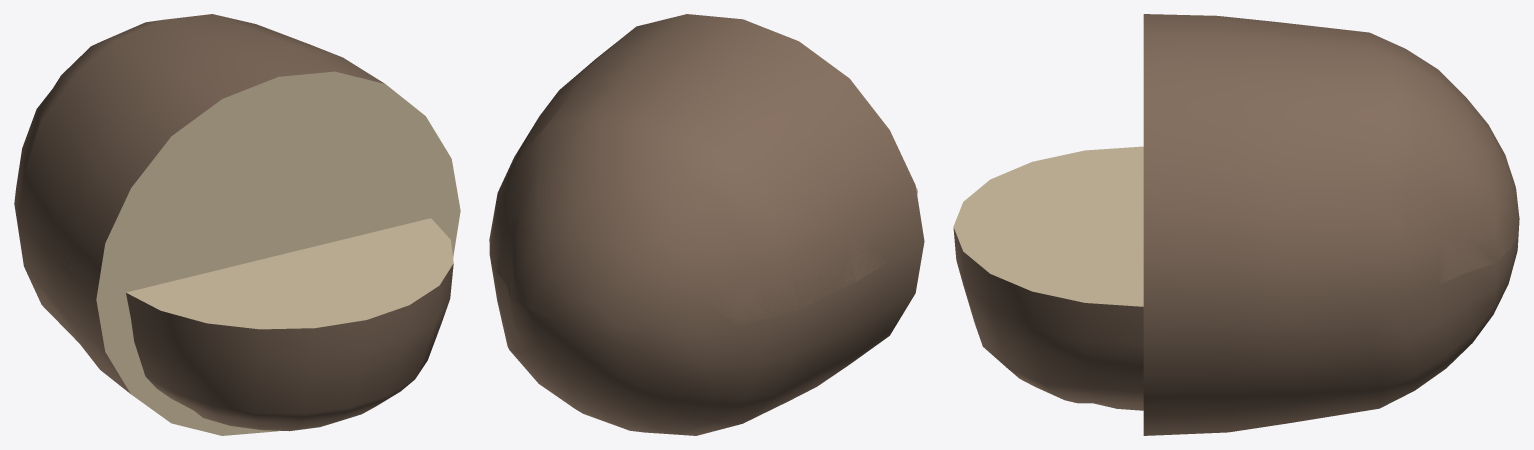
File: Potato1B.fbx
3 views of the same model, side by side, from view 1: azimuth 30°, elevation 25°; view 2: azimuth 150°, elevation 25°; view 3: azimuth 270°, elevation 25° (orthographic). The views are drawn at different scales.
Parts seen in each view (by area): view 1: PotatoPeice1B, PotatoPeice2C, PotatoPeice2D; view 2: PotatoPeice1B, PotatoPeice2D; view 3: PotatoPeice1B, PotatoPeice2C, PotatoPeice2D.
Part boxes in pixels (left/top/right/bottom): PotatoPeice1B: left=14, top=14, right=460, bottom=435; PotatoPeice2C: left=126, top=218, right=453, bottom=431; PotatoPeice2D: left=14, top=19, right=421, bottom=274; PotatoPeice1B: left=489, top=15, right=924, bottom=435; PotatoPeice2D: left=495, top=14, right=886, bottom=333; PotatoPeice1B: left=1143, top=14, right=1519, bottom=435; PotatoPeice2C: left=953, top=146, right=1143, bottom=410; PotatoPeice2D: left=1143, top=22, right=1518, bottom=283.
Size of the model in its own units: 2.39 by 2.22 by 2.98.
